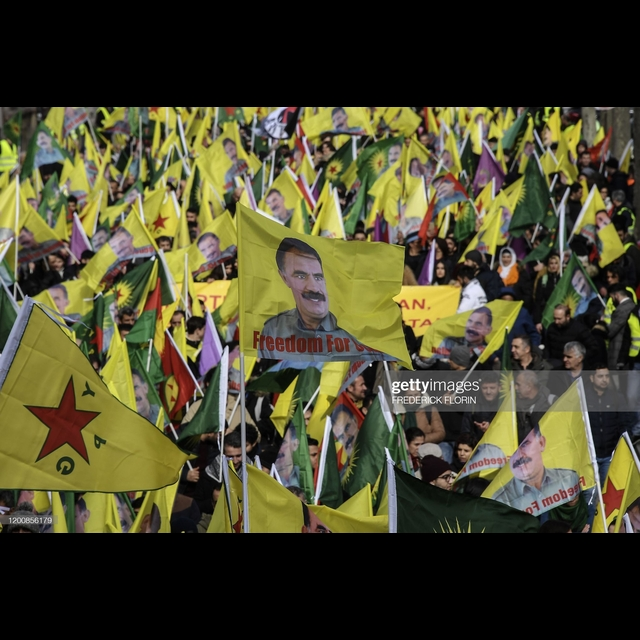APO: (268, 239, 338, 321)
YPG: (13, 380, 108, 478)
